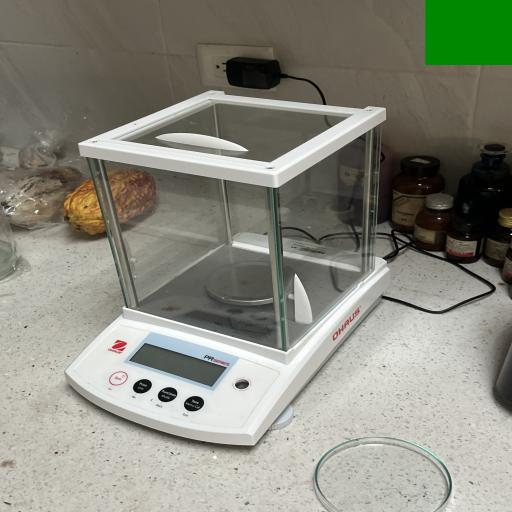Balanza_Analitica_Ohaus: (57, 84, 404, 458)
